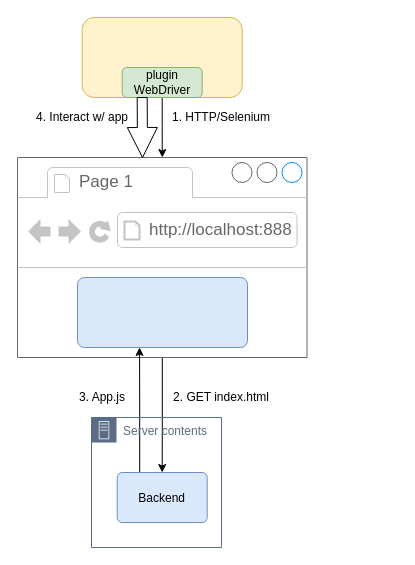
Some shapes in this 415 by 565 pixel diagram are drawn without their labels. Here are the shapes that lost their labels. From the top down, the box of each, then its label:
(81, 16, 242, 98): JMeter
(76, 276, 248, 348): App to test
